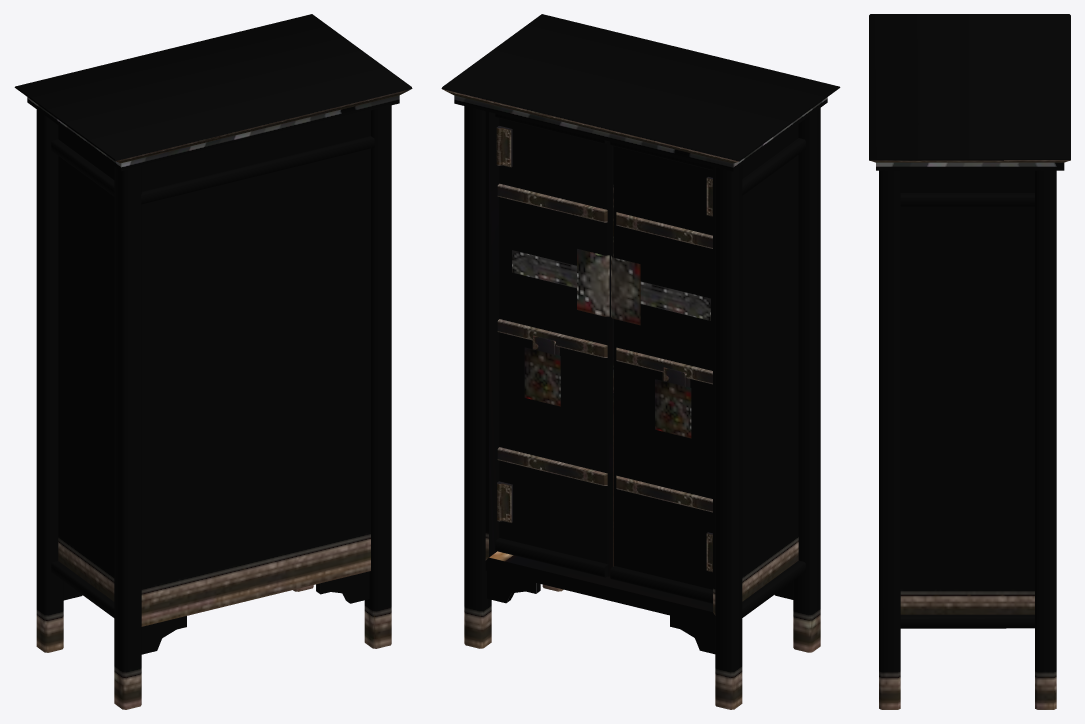
Rendered from o_mdl_env_propFurnitureCupboardA-transformed.glb.
3 views of the same model, side by side, from view 1: azimuth 30°, elevation 25°; view 2: azimuth 150°, elevation 25°; view 3: azimuth 270°, elevation 25° (orthographic).
Parts seen in each view (by area): view 1: default; view 2: default; view 3: default.
Part boxes in pixels (bbox=[...]): default: bbox=[14, 14, 412, 709]; default: bbox=[441, 14, 840, 709]; default: bbox=[869, 14, 1070, 709].
Bounding box in the file's own units: 1.35 × 2.43 × 0.797.
Materials: 2 (2 with a texture image).
